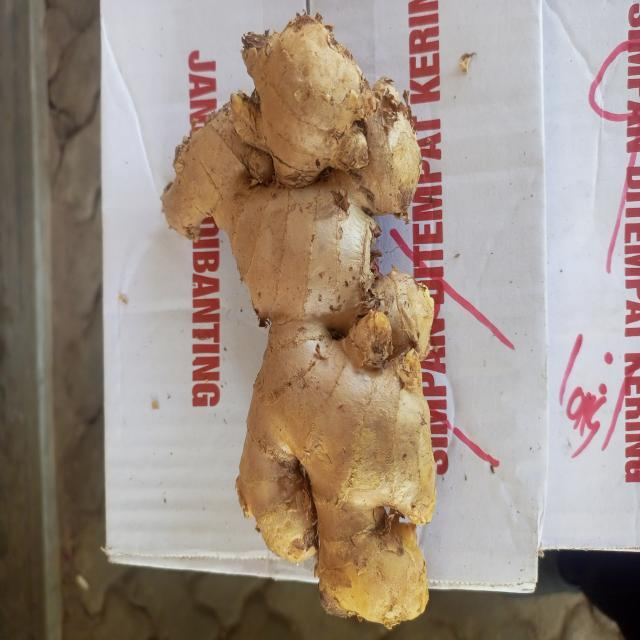ginger: (172, 13, 438, 622)
